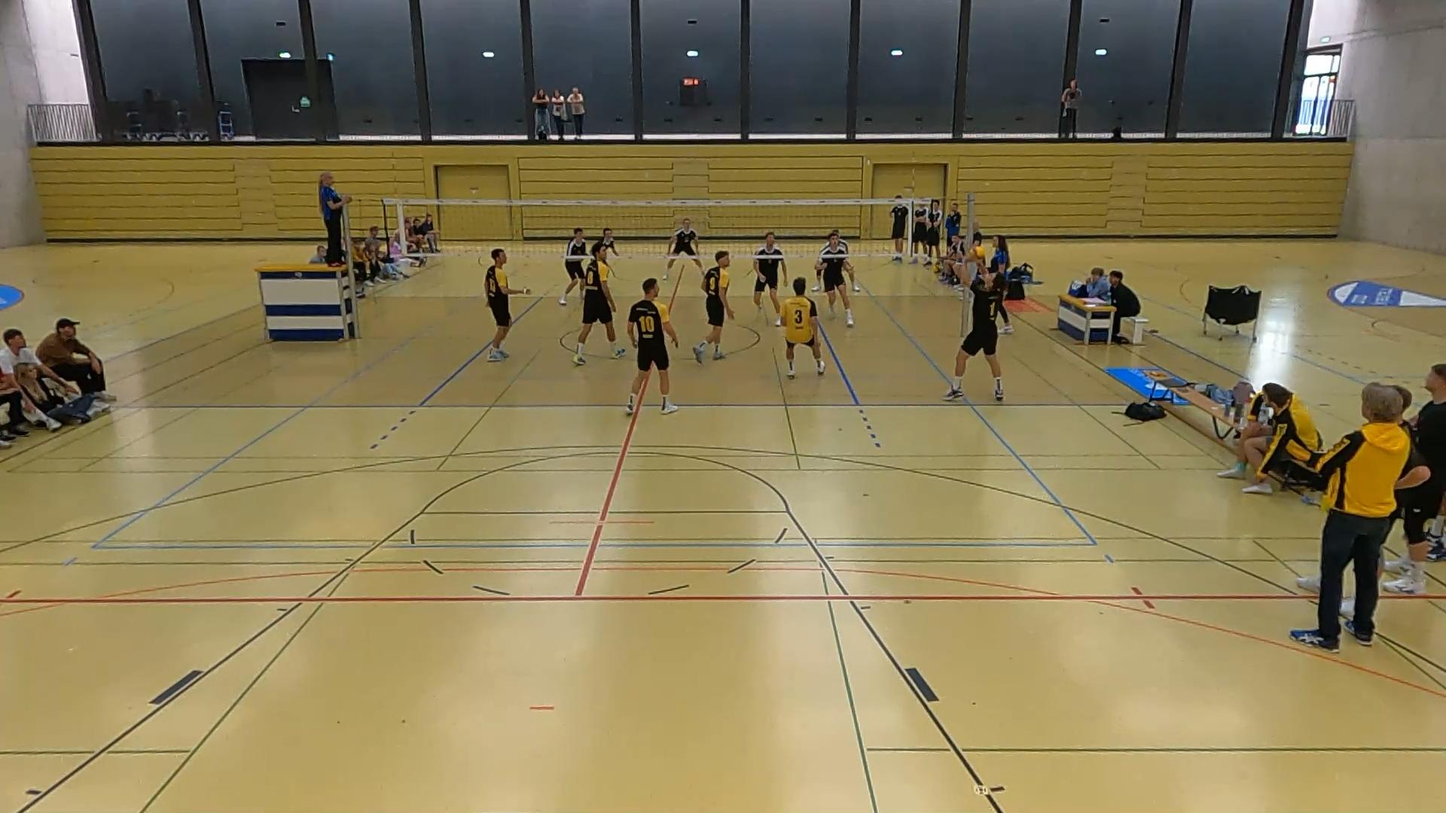Player: (627, 278, 678, 414), (572, 247, 625, 364), (484, 248, 529, 361), (692, 251, 734, 364), (782, 277, 824, 378), (816, 232, 853, 325), (753, 231, 786, 325), (662, 218, 702, 278), (559, 227, 589, 306), (589, 227, 620, 260), (828, 228, 848, 254)
Set: (946, 242, 1011, 411)
ball: (964, 243, 986, 264)
